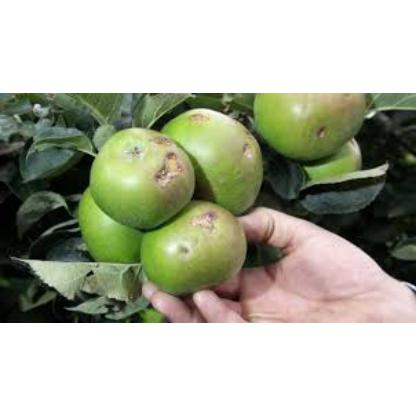apple: (250, 93, 366, 154)
damaged_apple: (157, 111, 263, 211), (85, 130, 193, 224), (138, 201, 244, 283)
